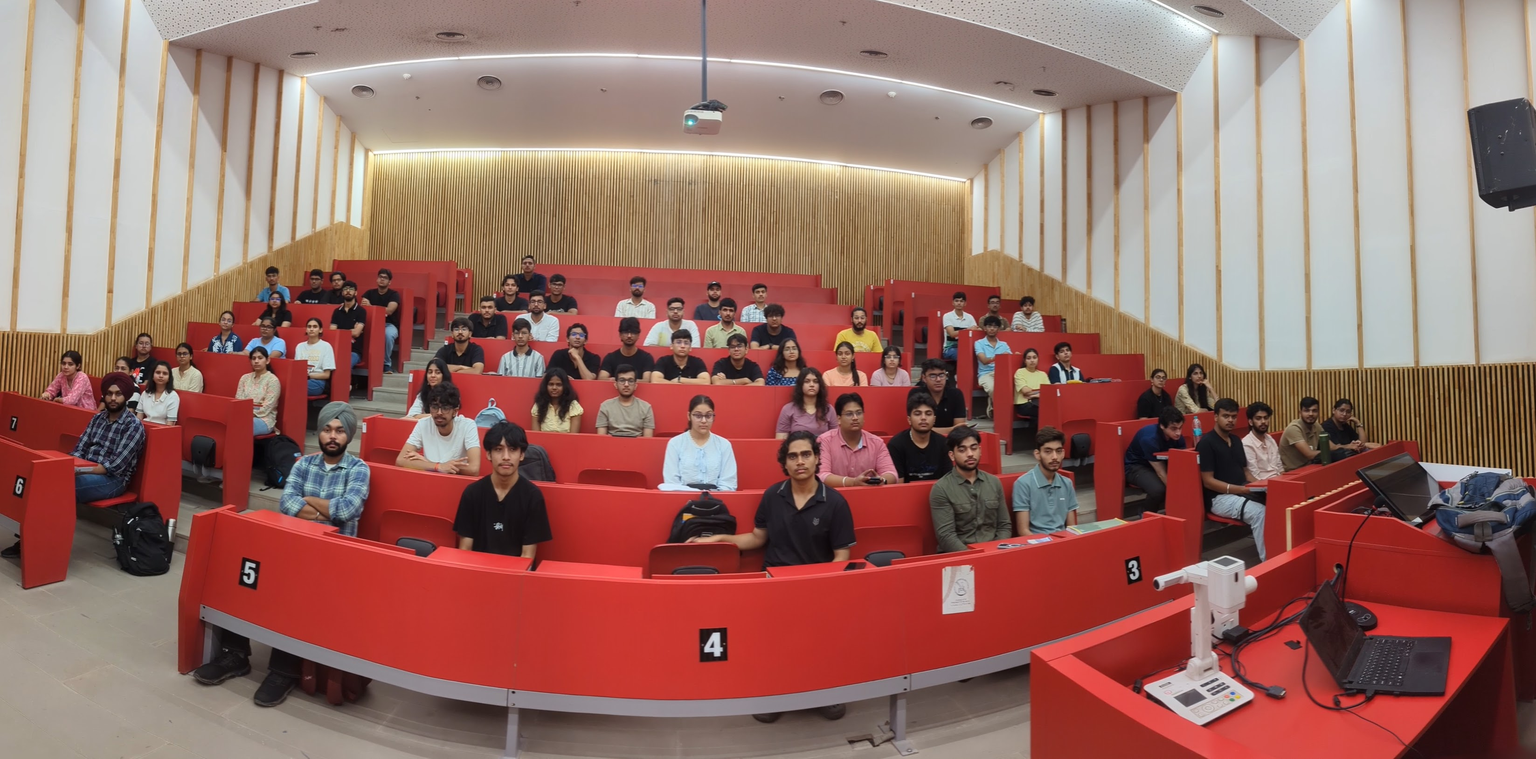student_face: (323, 406, 347, 412), (492, 425, 516, 431), (1043, 428, 1065, 434), (57, 361, 81, 366), (789, 436, 811, 441), (957, 427, 979, 432), (248, 339, 268, 344), (546, 368, 566, 373), (615, 364, 635, 369), (799, 367, 819, 372), (429, 383, 449, 388), (692, 397, 712, 402), (839, 392, 859, 397), (924, 397, 944, 402), (1157, 405, 1177, 410), (1250, 399, 1270, 404), (1299, 395, 1319, 400), (1334, 393, 1354, 398), (421, 356, 439, 361), (572, 318, 590, 323), (621, 315, 639, 320), (153, 357, 173, 361), (912, 363, 932, 367), (107, 376, 127, 380), (1216, 398, 1236, 402), (218, 308, 236, 312), (175, 338, 193, 342), (303, 313, 321, 317), (449, 311, 467, 315), (512, 313, 530, 317), (670, 325, 688, 329), (725, 326, 743, 330), (836, 338, 854, 342), (1023, 341, 1041, 345), (311, 279, 328, 283), (342, 277, 359, 281), (483, 282, 500, 286), (526, 282, 543, 286), (707, 296, 724, 300), (767, 300, 784, 304), (778, 332, 795, 336), (884, 341, 901, 345), (1056, 336, 1073, 340), (1145, 364, 1162, 368), (373, 266, 389, 270), (548, 270, 564, 274), (620, 274, 636, 278), (706, 280, 722, 284), (949, 285, 965, 289), (929, 315, 945, 319), (666, 296, 686, 299), (753, 280, 768, 284), (991, 289, 1006, 293), (111, 344, 126, 348), (262, 285, 279, 288), (253, 304, 269, 307), (516, 250, 532, 253), (1021, 291, 1037, 294), (135, 332, 151, 335), (981, 313, 997, 316), (1184, 357, 1200, 360), (266, 265, 281, 268), (851, 303, 866, 306), (506, 274, 516, 277), (326, 269, 333, 271)
